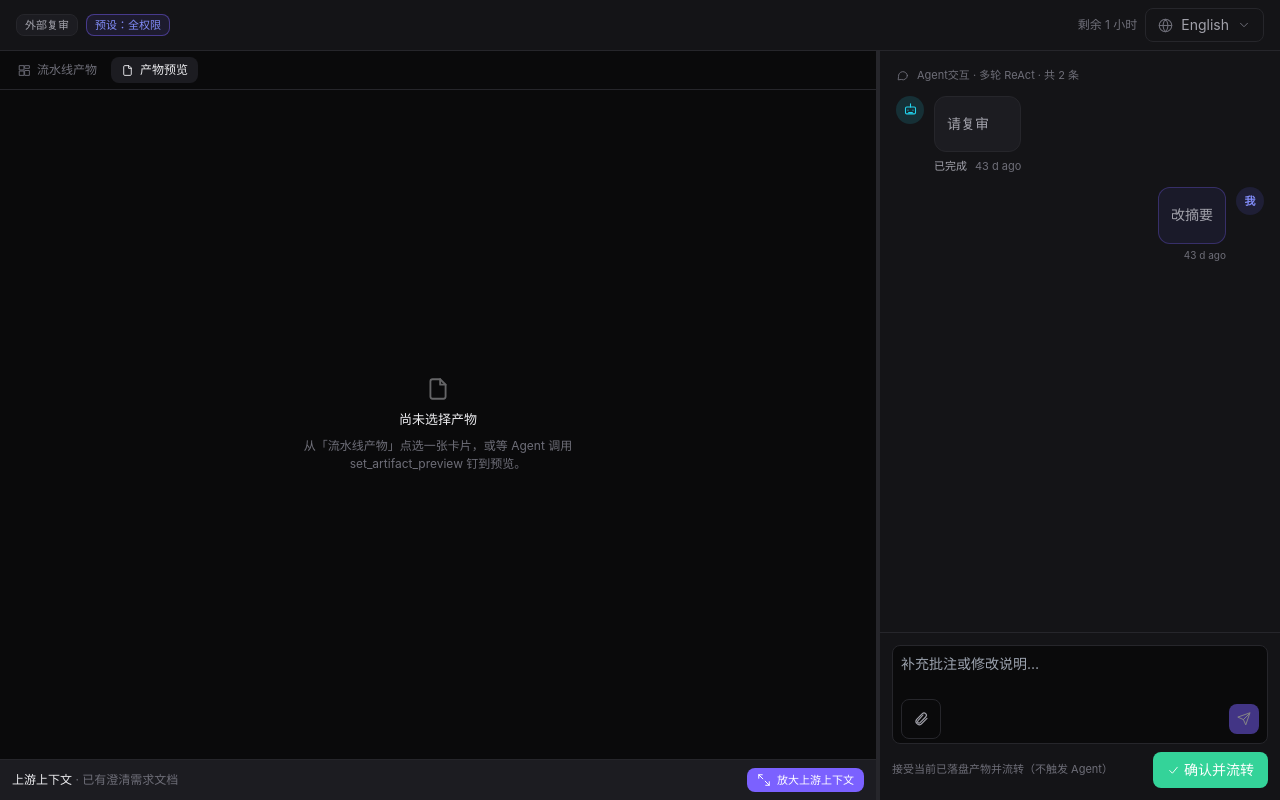
PublicGateApprovalView workbench › review hot session has ReAct + composer confirm and no reject
Expected: the text with test id "public-gate-badge" reads "外部复审", [25,18,69,32]
Expected: the tab with test id "react-artifact-tab-grid" is shown, [8,57,107,83]
Click the button with test id "clarify-confirm-flow": (1210, 770) [1153,752,1268,788]
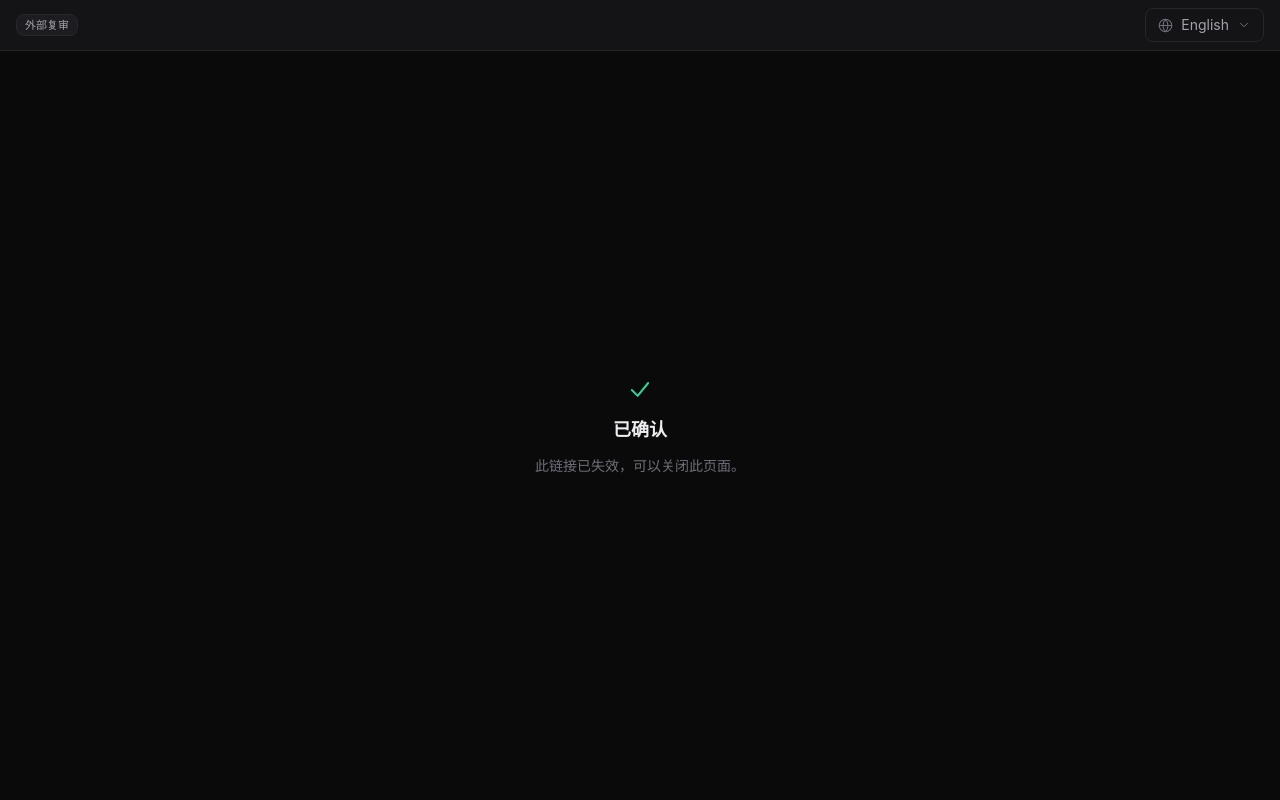
Expected: the element with test id "public-gate-done" shows "已确认", [613,418,667,440]
